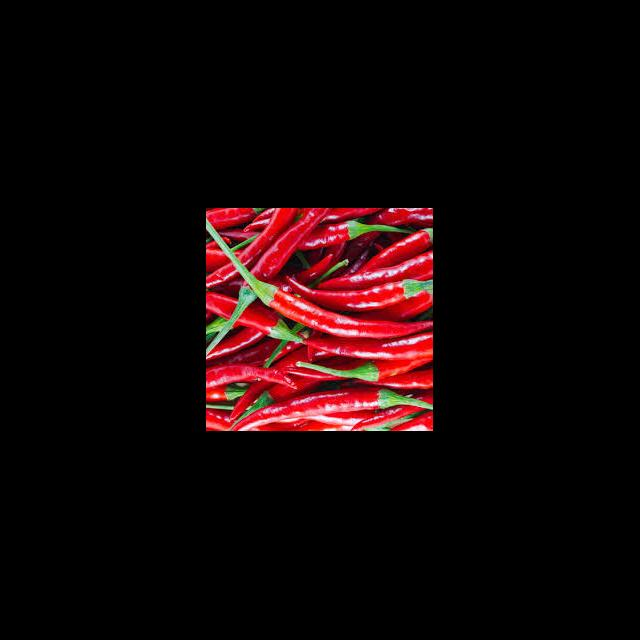chili_pepper: (251, 208, 342, 282), (355, 231, 434, 278), (378, 366, 434, 391), (207, 209, 262, 232), (390, 412, 433, 432)
